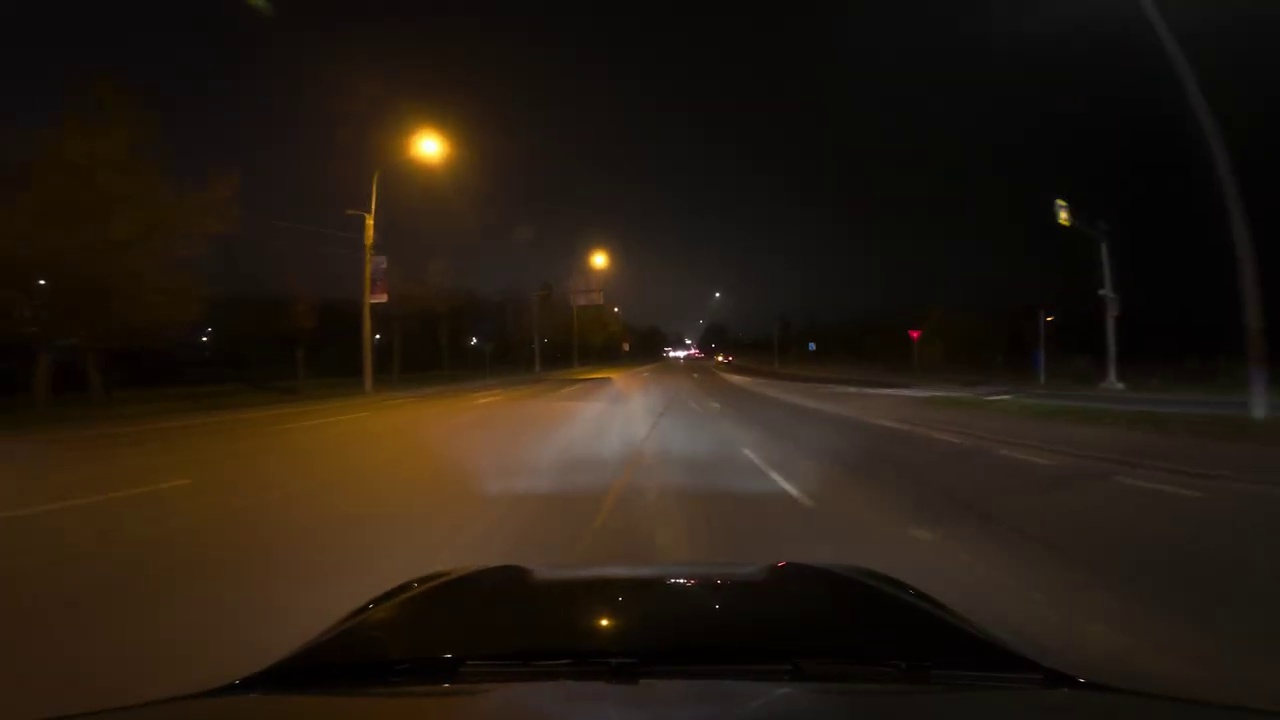acesa: (402, 125, 454, 171), (586, 247, 613, 274)
